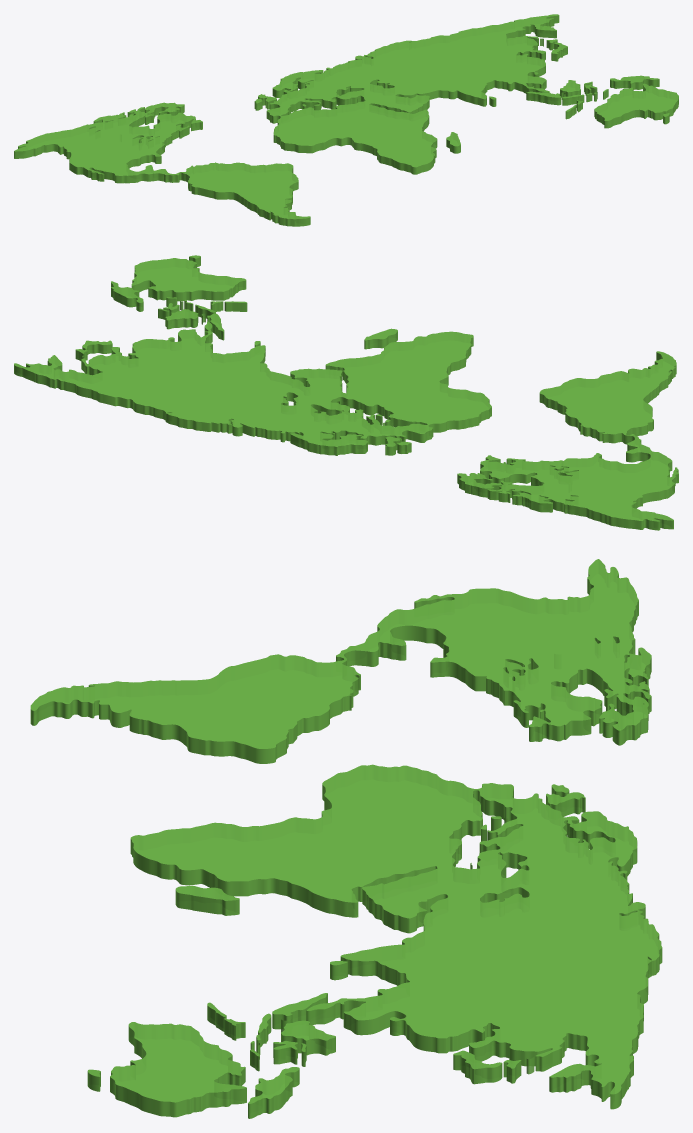
File: map.glb
The picture shows the model from 3 angles, top to bottom: view 1: azimuth 30°, elevation 25°; view 2: azimuth 150°, elevation 25°; view 3: azimuth 270°, elevation 25°; orthographic projection. The views are drawn at different scales.
Parts seen in each view (by area): view 1: baseMap; view 2: baseMap; view 3: baseMap.
Boxes of the visible parts, <box> form: baseMap: <box>14,14,678,226</box>; baseMap: <box>14,255,678,530</box>; baseMap: <box>30,559,662,1118</box>.
Bounding box in the file's own units: 548 × 7 × 268.
